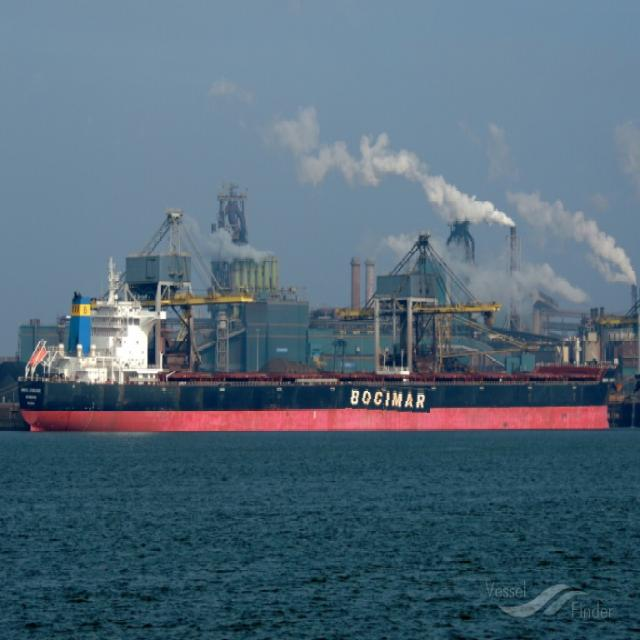OCR: (345, 384, 431, 414)
